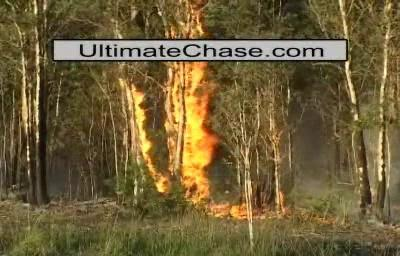fire: (132, 11, 278, 220)
